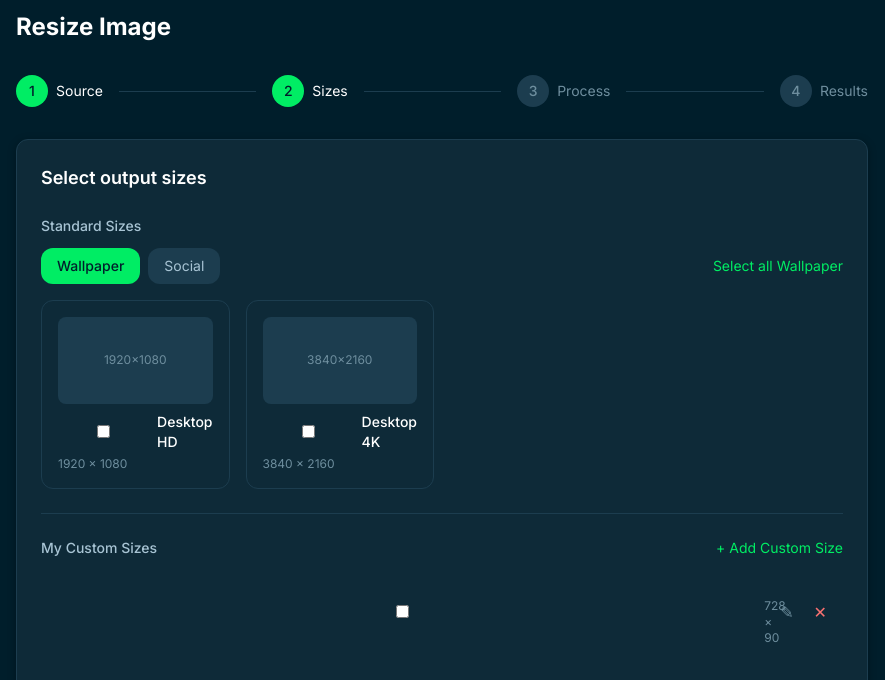
ResizeComponent › renders a category-scoped select all control with a deselect label
What coordinates should you click on to do the following:
click the button "Select all Wallpaper"
I would click on:
 (778, 266)
Its box is [713, 256, 843, 276].
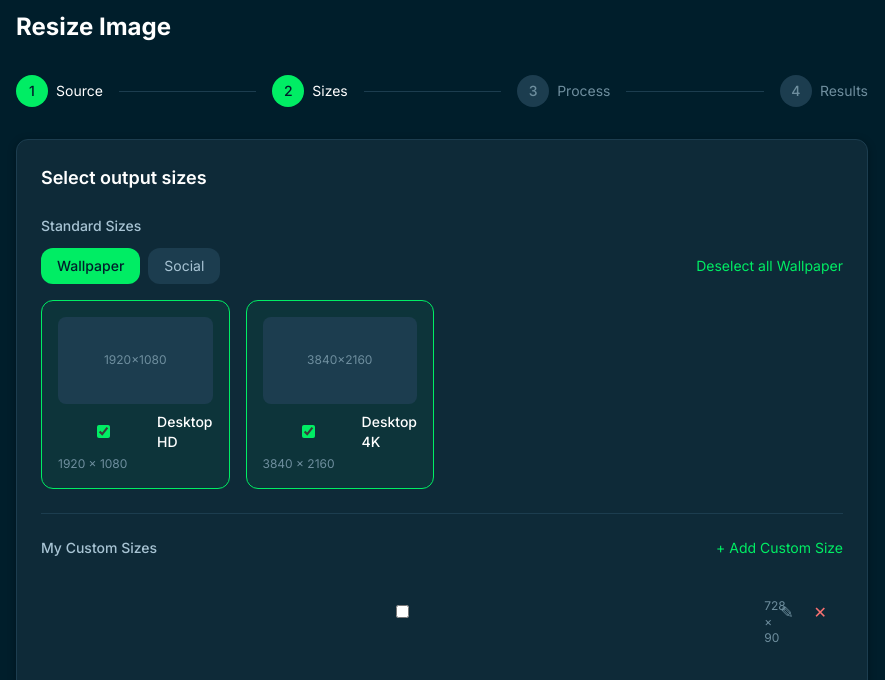
Expected: the button "Deselect all Wallpaper" is shown, [696, 256, 843, 276]
